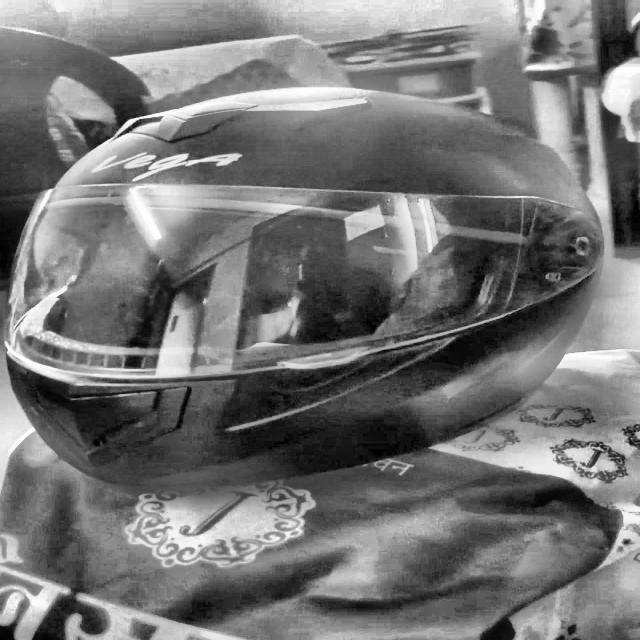Helmet: (29, 82, 624, 496)
